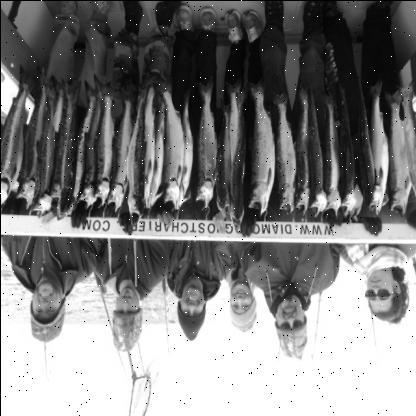fish: (1, 66, 36, 208), (78, 78, 110, 208), (65, 82, 96, 216), (106, 86, 139, 210), (247, 75, 276, 216), (156, 80, 184, 208), (193, 74, 217, 212), (386, 94, 412, 216), (126, 84, 148, 226), (93, 83, 118, 206), (306, 80, 328, 217), (272, 90, 296, 214), (226, 78, 245, 232), (368, 82, 390, 214), (320, 96, 342, 218), (146, 87, 166, 209), (174, 88, 193, 212), (294, 86, 310, 218), (142, 78, 154, 208)
